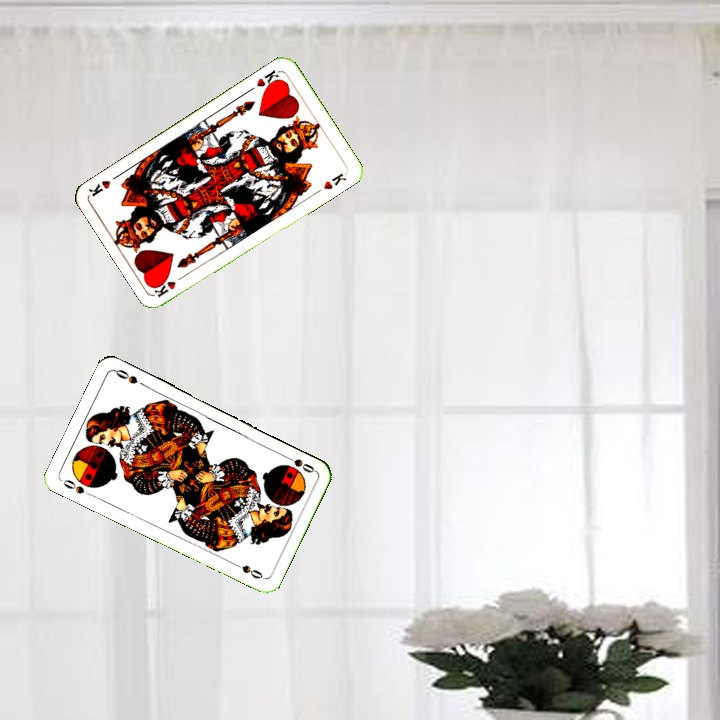HK: (151, 270, 189, 300), (252, 65, 283, 92)
SO: (279, 450, 317, 475), (58, 475, 96, 499)
